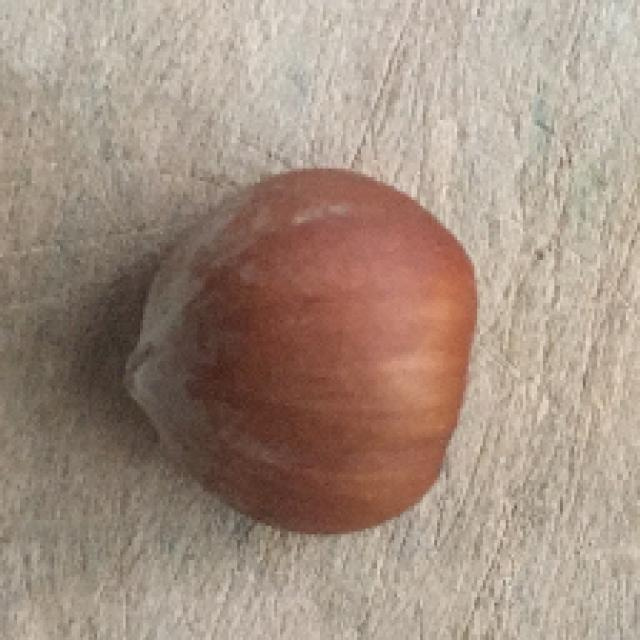qualityHazelnut: (103, 141, 477, 543)
